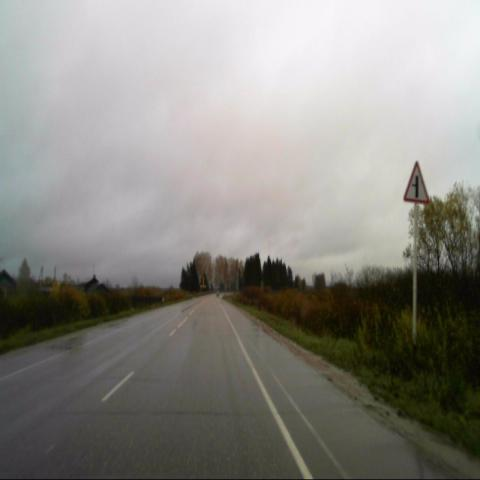2_3_3: (403, 160, 430, 205)
